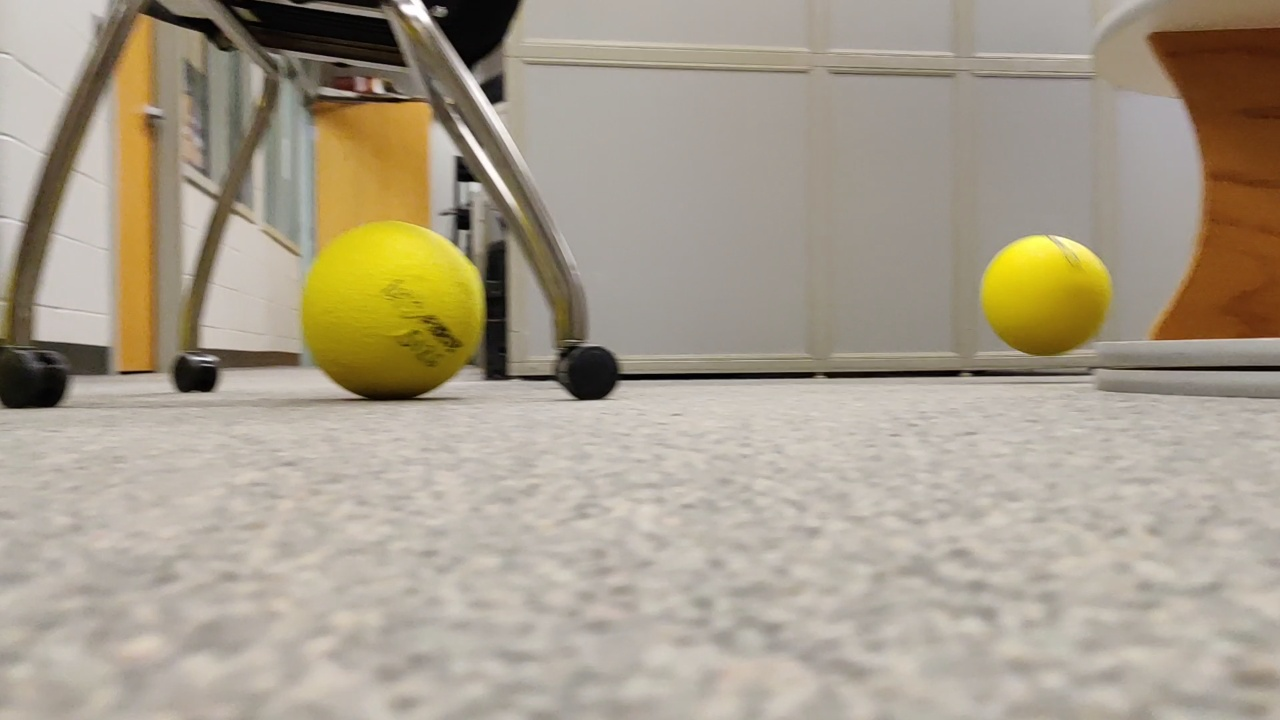Ball: (298, 222, 504, 405), (992, 235, 1106, 350)
